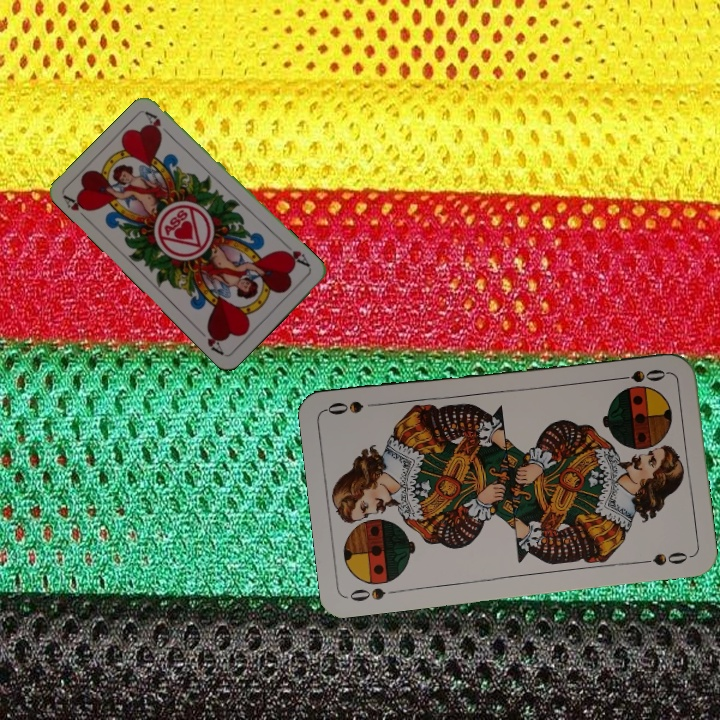HA: (277, 239, 313, 270), (60, 192, 93, 225)
SO: (345, 583, 403, 604), (611, 365, 670, 385)
